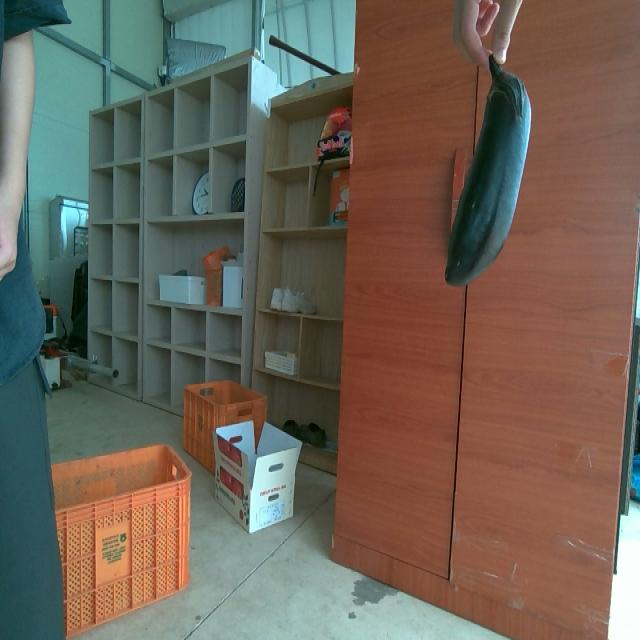Egg plant: (446, 55, 531, 284)
